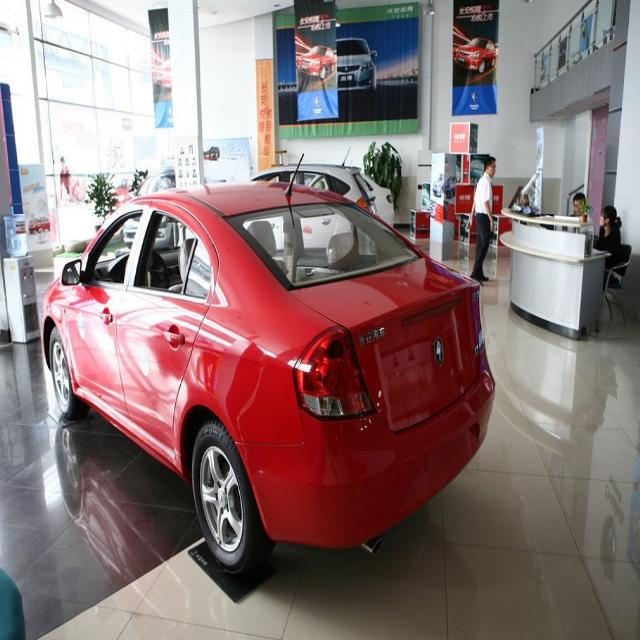back_glass: (212, 197, 431, 300)
back_left_side_light: (280, 315, 386, 437)
door: (121, 220, 220, 452)
front_left_side_door: (74, 190, 155, 429)
front_left_side_mirror: (61, 259, 87, 286)
rear_bumper: (248, 362, 535, 560)
wheel: (187, 400, 253, 578), (39, 322, 88, 438)
